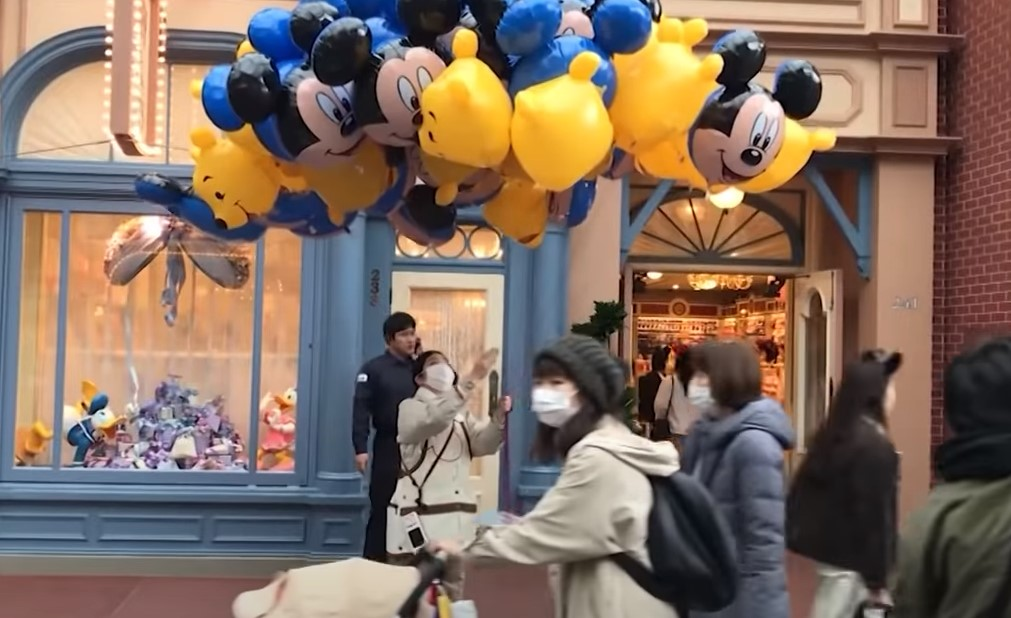face_no_mask: (384, 312, 418, 358)
face_with_mask: (532, 335, 627, 426), (680, 340, 759, 427), (417, 353, 458, 395)
